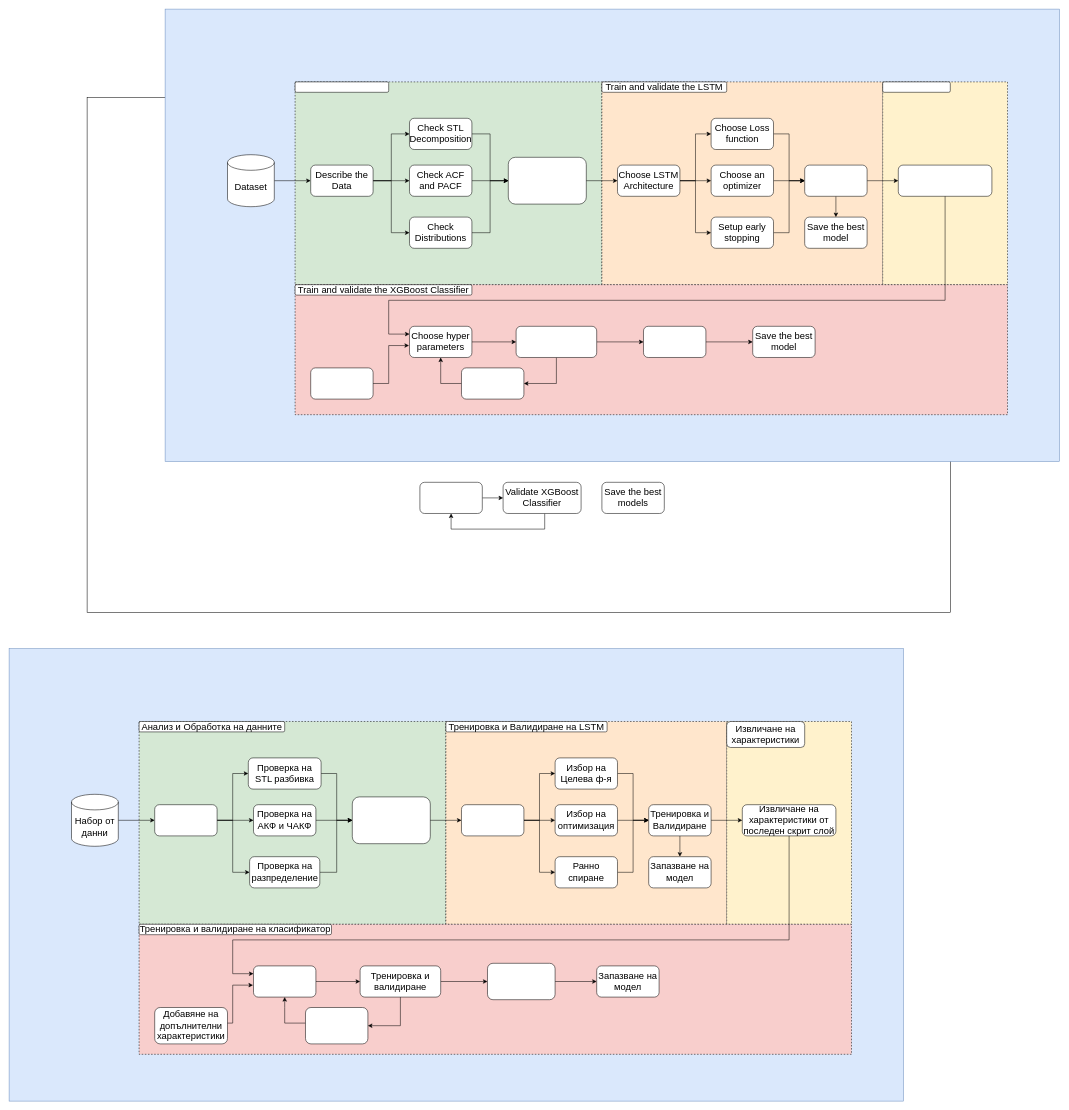
Image size: 1069x1110. Some labels were removed from this diagram. The centre of each missing label's shape, as x and y in pixels:
"Add additional features" goes at point 341,383.
"Apply model to testing set" goes at point 674,342.
"EDA and Preprocess" goes at point 342,86.
"Extract features" goes at point 916,86.
"Extract the features from last hidden layer" goes at point 945,180.
"Fine Tune Parameters" goes at point 492,383.
"Train and Validate" goes at point 835,180.
"Train and Validate Classifier" goes at point 556,342.
"Train XGBoost Classifier" goes at point 450,498.
"Transform the Data as needed (Normalization, Scaling, ETC)" goes at point 547,180.
"Избор на архитектура" goes at point 492,820.
"Избор на хипер параметри" goes at point 284,981.
"Намиране на най-добри параметри" goes at point 336,1025.
"Обяснение на данните" goes at point 185,820.
"Прилагане върху тестови набор" goes at point 521,981.
"Трансформация на данните, ако е нужно" goes at point 391,820.
